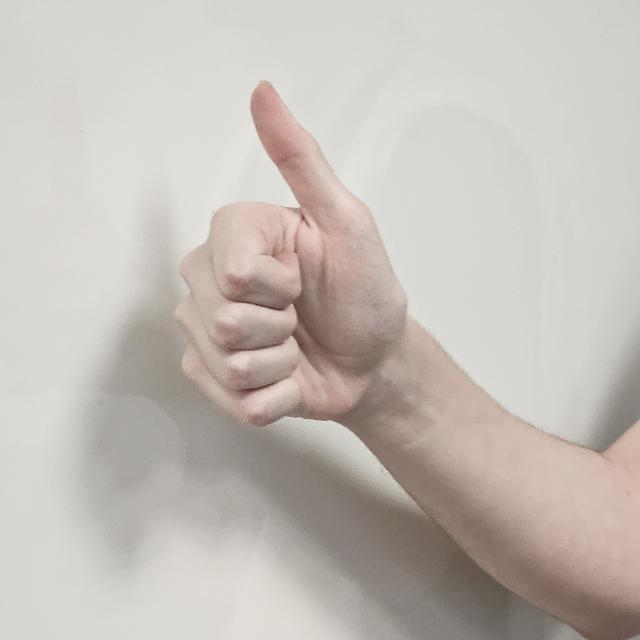Start: (179, 76, 415, 474)
